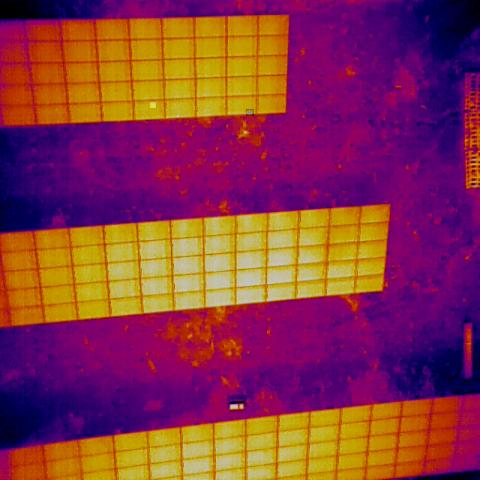fault: (246, 109, 254, 116), (150, 102, 156, 108)
